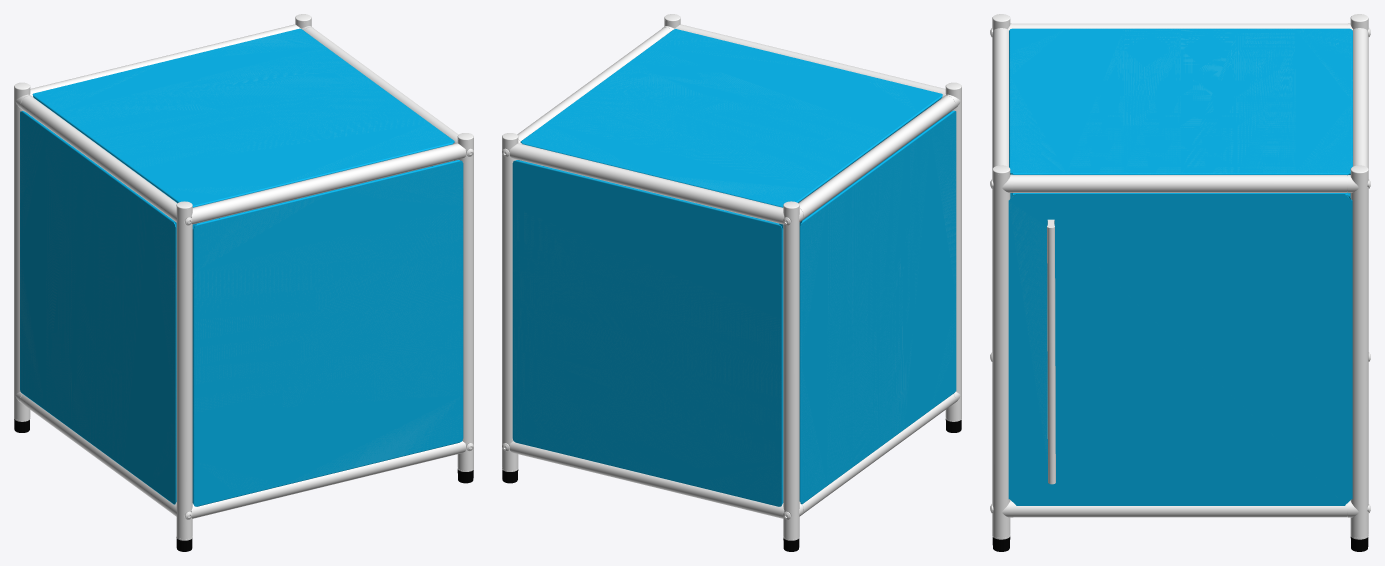
File: 40x40x40-2-4-blue.glb
3 renders of one model, left to right at view 1: azimuth 30°, elevation 25°; view 2: azimuth 150°, elevation 25°; view 3: azimuth 270°, elevation 25°, orthographic. The views are drawn at different scales.
Parts seen in each view (by area): view 1: 直角鐵板-40x40-2 - 零件, 直角鐵板-40x40-4 - 零件, 直角鐵板-40x40-5 - 零件, 鐵管-1層-40-正常腳-32mm-5 - 零件, 消水孔鐵管-40深-2 - 零件, 鐵管-1層-40-正常腳-32mm-4 - 零件, 消水孔鐵管-40深-1 - 零件, 反-鐵管-40-354..4-18 - 零件, 鏡射鐵管-1層-40-正常腳-32mm-2 - 零件, 反-鐵管-40-354..4-15 - 零件, 鏡射消水孔鐵管-40深-2 - 零件, 反-鐵管-40-354..4-17 - 零件; view 2: object 43, 直角鐵板-40x40-4 - 零件, 直角鐵板-40x40-5 - 零件, 鏡射鐵管-1層-40-正常腳-32mm-2 - 零件, 鏡射消水孔鐵管-40深-2 - 零件, 鏡射鐵管-1層-40-正常腳-32mm-1 - 零件, 鏡射消水孔鐵管-40深-1 - 零件, 反-鐵管-40-354..4-18 - 零件, 鐵管-1層-40-正常腳-32mm-5 - 零件, 消水孔鐵管-40深-2 - 零件, 反-鐵管-40-354..4-15 - 零件, 反-鐵管-40-354..4-17 - 零件; view 3: object 25, 直角鐵板-40x40-5 - 零件, 鐵管-1層-40-正常腳-32mm-4 - 零件, 鏡射鐵管-1層-40-正常腳-32mm-1 - 零件, 反-鐵管-40-354..4-17 - 零件, 反-鐵管-40-354..4-1 - 零件, 消水孔鐵管-40深-2 - 零件, 鏡射消水孔鐵管-40深-2 - 零件, 反-鐵管-40-354..4-18 - 零件.
Part boxes in pixels (x1,y1,x2,y2): 直角鐵板-40x40-2 - 零件: [192, 160, 463, 506]; 直角鐵板-40x40-4 - 零件: [20, 111, 176, 504]; 直角鐵板-40x40-5 - 零件: [32, 28, 454, 207]; 鐵管-1層-40-正常腳-32mm-5 - 零件: [176, 207, 192, 539]; 消水孔鐵管-40深-2 - 零件: [191, 143, 465, 224]; 鐵管-1層-40-正常腳-32mm-4 - 零件: [457, 138, 473, 470]; 消水孔鐵管-40深-1 - 零件: [191, 441, 465, 518]; 反-鐵管-40-354..4-18 - 零件: [20, 96, 177, 219]; 鏡射鐵管-1層-40-正常腳-32mm-2 - 零件: [14, 88, 30, 420]; 反-鐵管-40-354..4-15 - 零件: [20, 394, 173, 513]; 鏡射消水孔鐵管-40深-2 - 零件: [30, 24, 300, 97]; 反-鐵管-40-354..4-17 - 零件: [304, 27, 458, 144]; object 43: [512, 160, 783, 506]; 直角鐵板-40x40-4 - 零件: [799, 110, 956, 504]; 直角鐵板-40x40-5 - 零件: [520, 29, 942, 207]; 鏡射鐵管-1層-40-正常腳-32mm-2 - 零件: [783, 206, 799, 539]; 鏡射消水孔鐵管-40深-2 - 零件: [509, 143, 784, 224]; 鏡射鐵管-1層-40-正常腳-32mm-1 - 零件: [502, 138, 518, 470]; 鏡射消水孔鐵管-40深-1 - 零件: [509, 441, 784, 518]; 反-鐵管-40-354..4-18 - 零件: [798, 96, 955, 219]; 鐵管-1層-40-正常腳-32mm-5 - 零件: [945, 88, 961, 420]; 消水孔鐵管-40深-2 - 零件: [675, 24, 945, 98]; 反-鐵管-40-354..4-15 - 零件: [799, 394, 955, 513]; 反-鐵管-40-354..4-17 - 零件: [517, 27, 671, 141]; object 25: [1008, 192, 1352, 505]; 直角鐵板-40x40-5 - 零件: [1009, 28, 1352, 174]; 鐵管-1層-40-正常腳-32mm-4 - 零件: [992, 171, 1010, 537]; 鏡射鐵管-1層-40-正常腳-32mm-1 - 零件: [1350, 171, 1368, 537]; 反-鐵管-40-354..4-17 - 零件: [1013, 175, 1347, 192]; 反-鐵管-40-354..4-1 - 零件: [1013, 503, 1347, 517]; 消水孔鐵管-40深-2 - 零件: [992, 28, 1008, 168]; 鏡射消水孔鐵管-40深-2 - 零件: [1352, 28, 1368, 180]; 反-鐵管-40-354..4-18 - 零件: [1013, 23, 1347, 28].
Size of the model in its own units: 0.4202 by 0.4452 by 0.4035.
